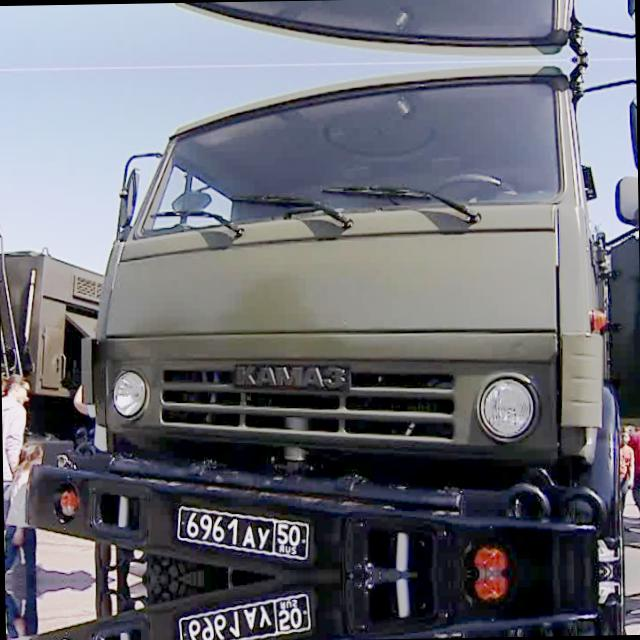military: (180, 499, 309, 564), (181, 591, 310, 640)
